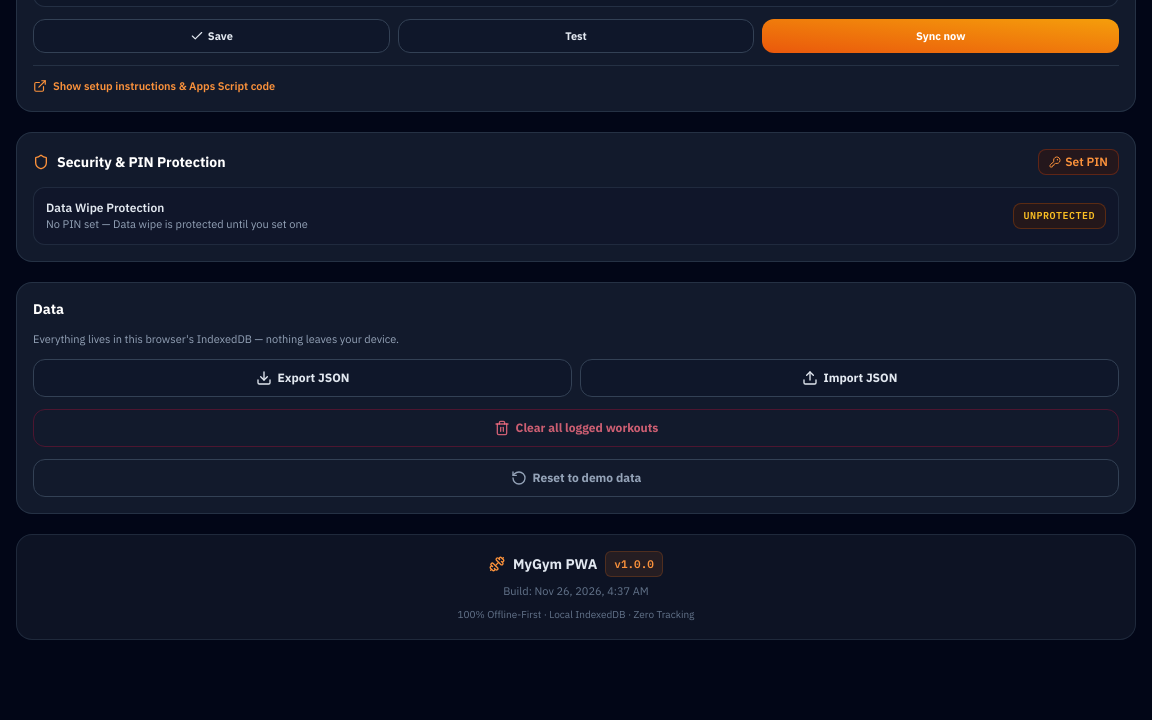
Security PIN & Data Protection › UI: Destructive Action Protection › prompts to Set PIN First when unconfigured and Clear is clicked
The width and height of the screenshot is (1152, 720).
(page scrolled)
Click the button "Clear all logged workouts" at (576,428), box [33,409,1119,447]
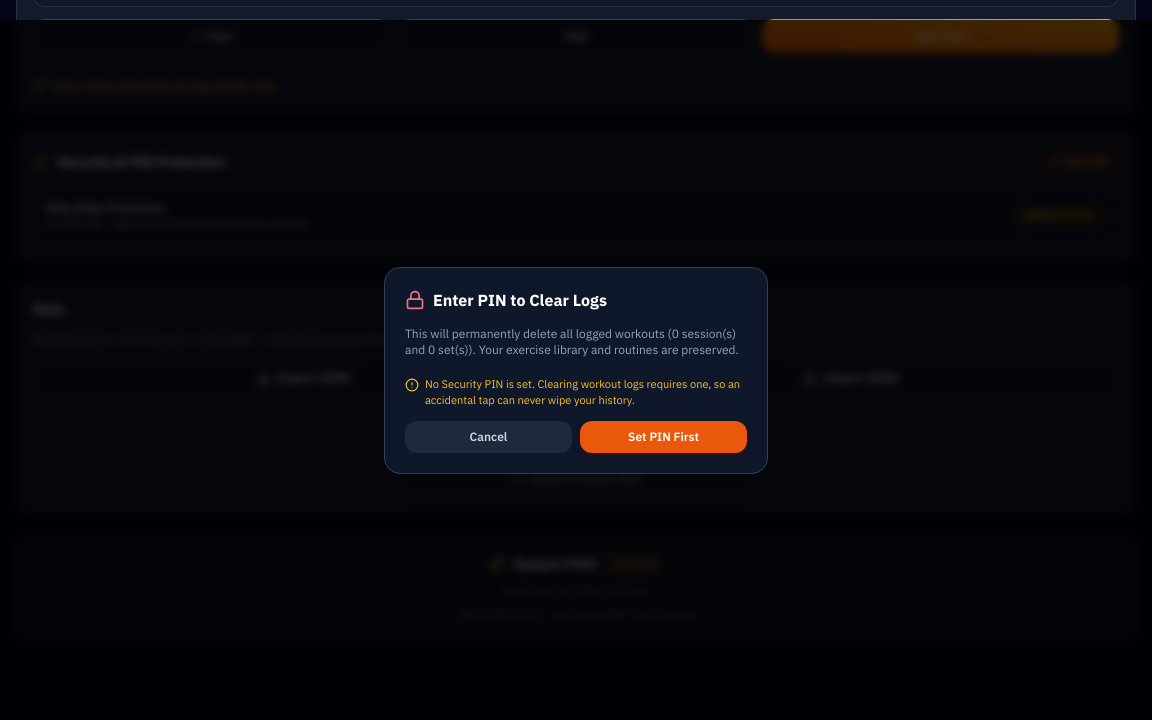
Expected: the text "No Security PIN is set" is shown, [425,376,740,407]
// Clicking "Set PIN First" opens the PIN configuration modal
Click the button "Set PIN First" at (664,436), box [580,420,747,452]
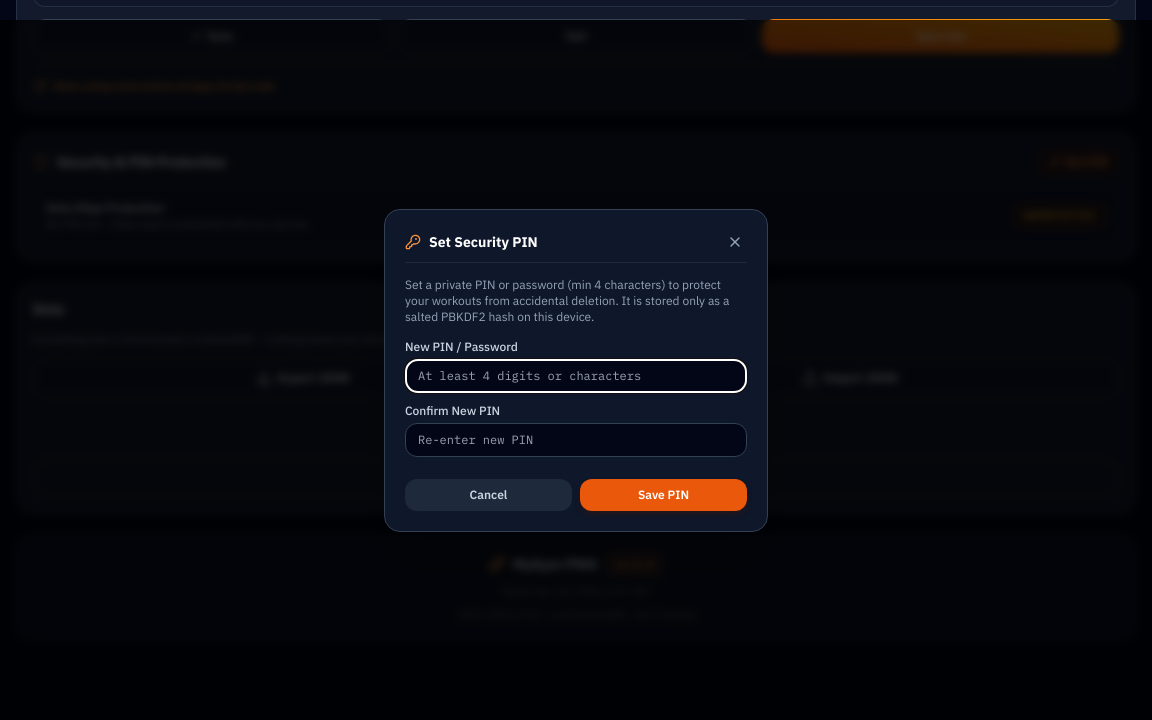
Expected: the heading "Set Security PIN" is shown, [429,232,538,252]
